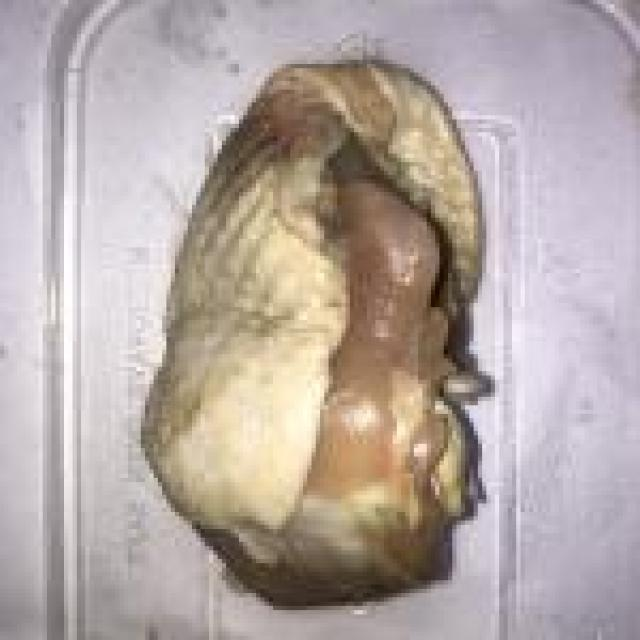breast: (142, 53, 494, 604)
